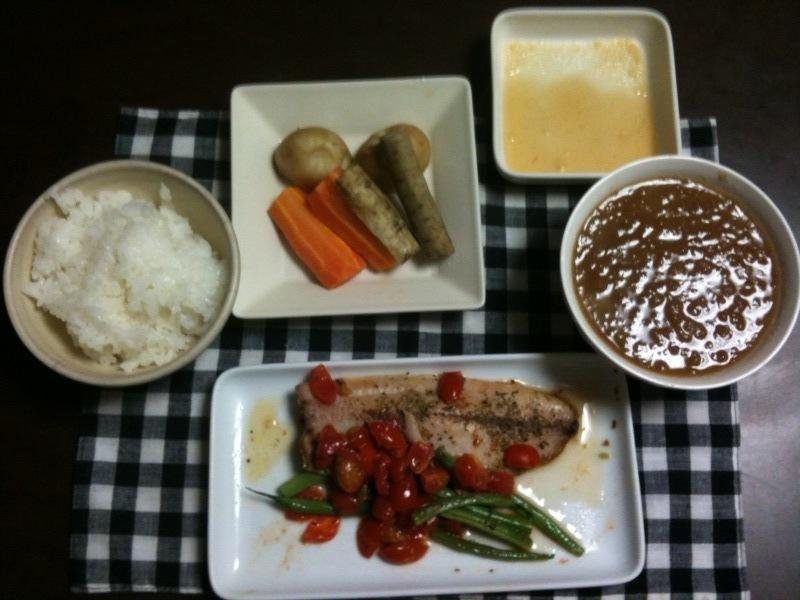rice: (25, 188, 227, 373)
